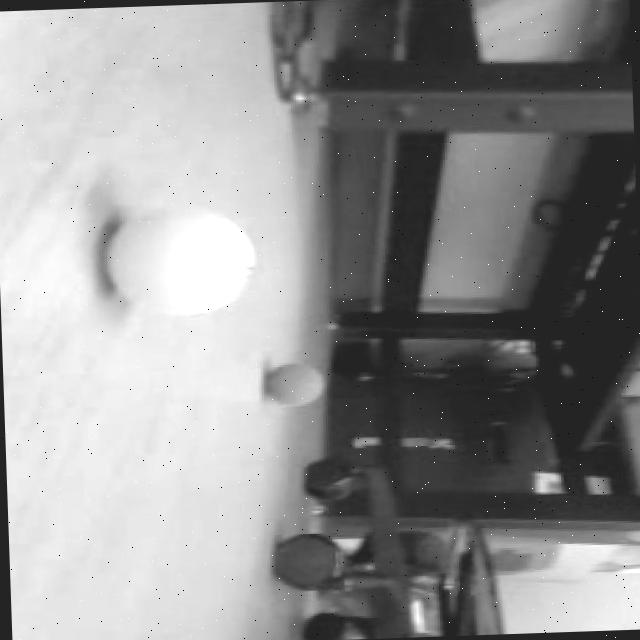ping-pong-ball: (100, 196, 256, 320), (258, 362, 326, 410)
